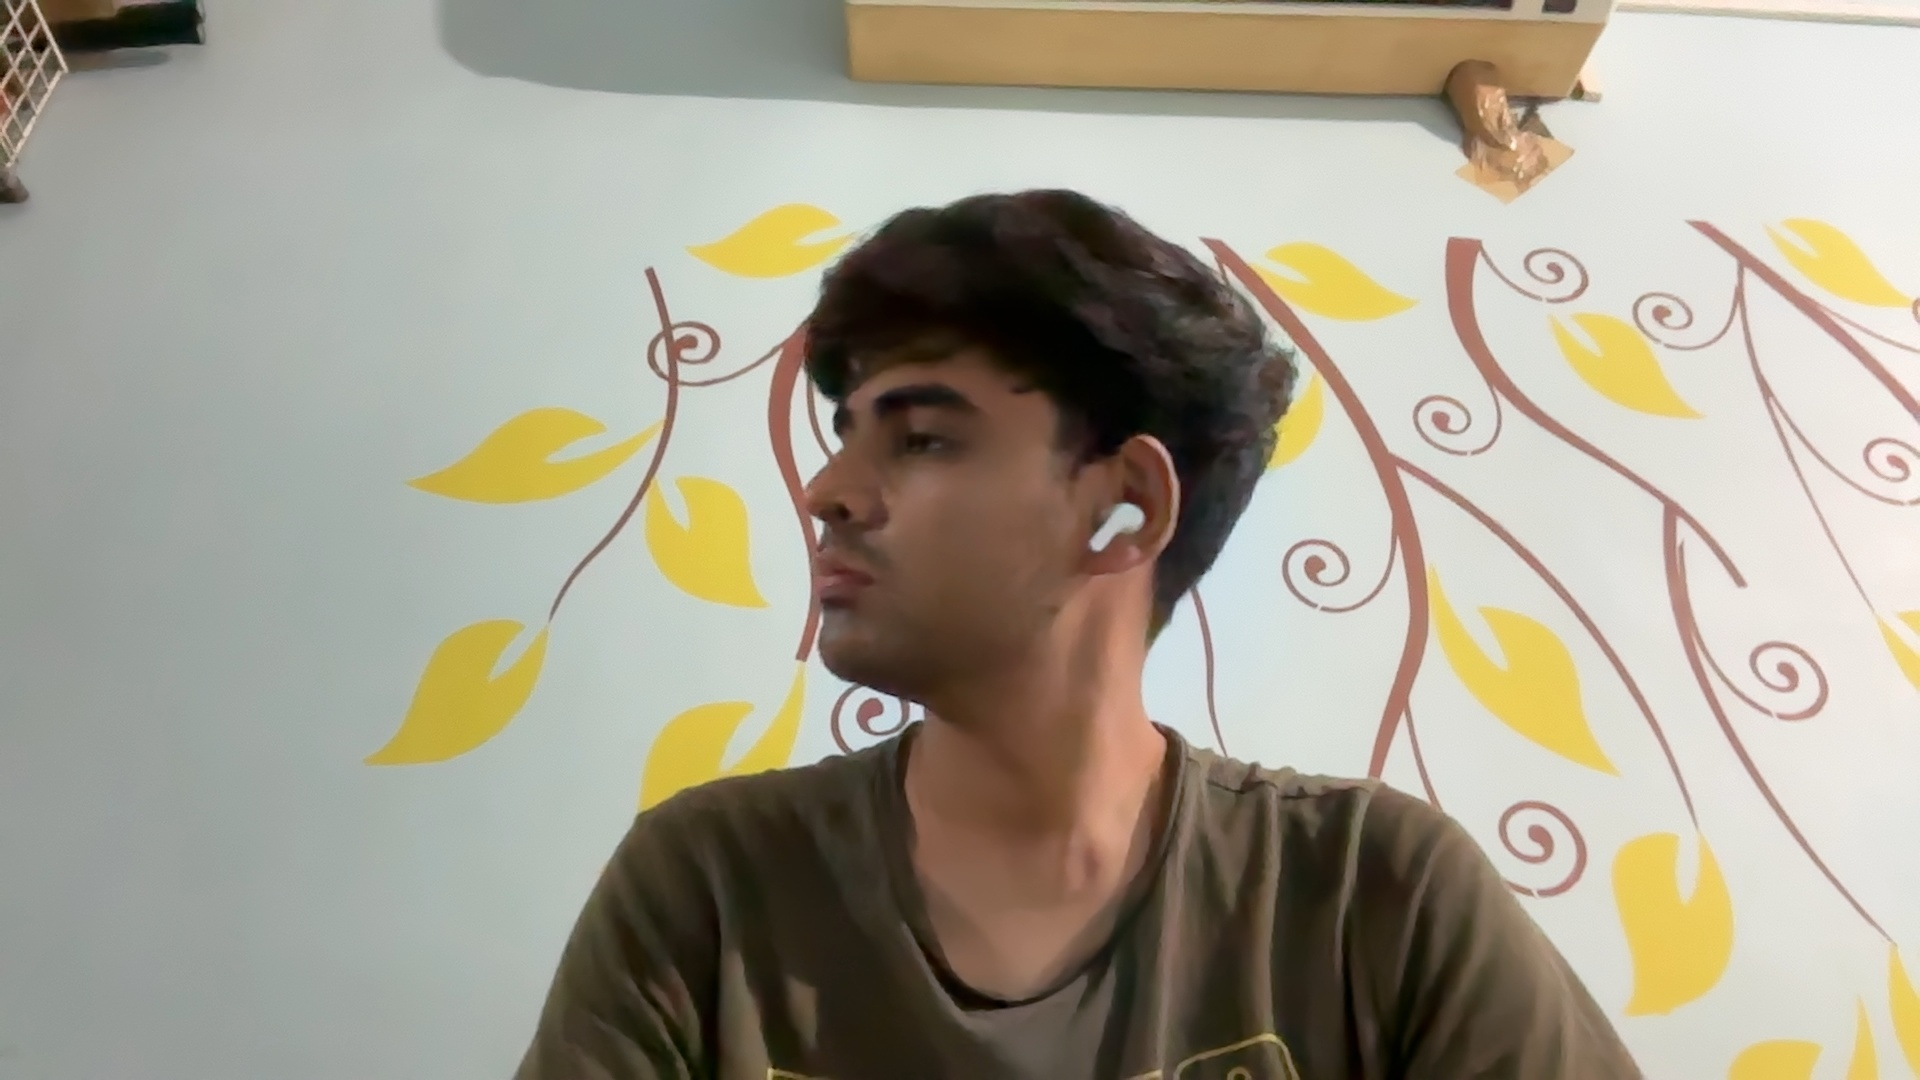No Mask: (801, 464, 1065, 692)
